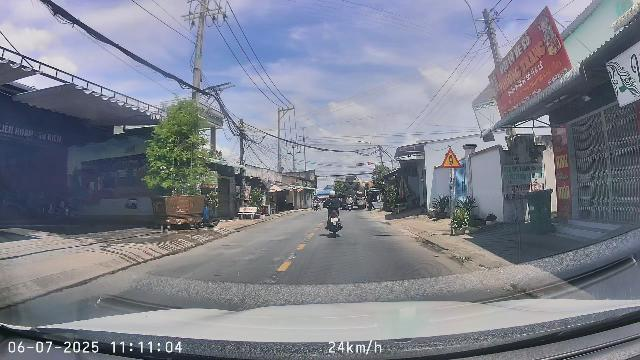209-giao-nhau-co-tin-hieu-den: (442, 148, 461, 168)
